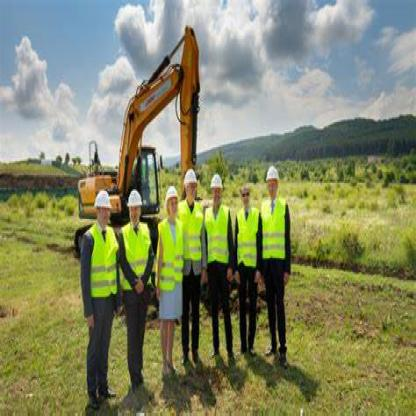person: (77, 185, 120, 405), (122, 172, 154, 394), (262, 152, 292, 375), (206, 149, 235, 366), (155, 166, 182, 382), (234, 161, 261, 363), (181, 151, 204, 367)
